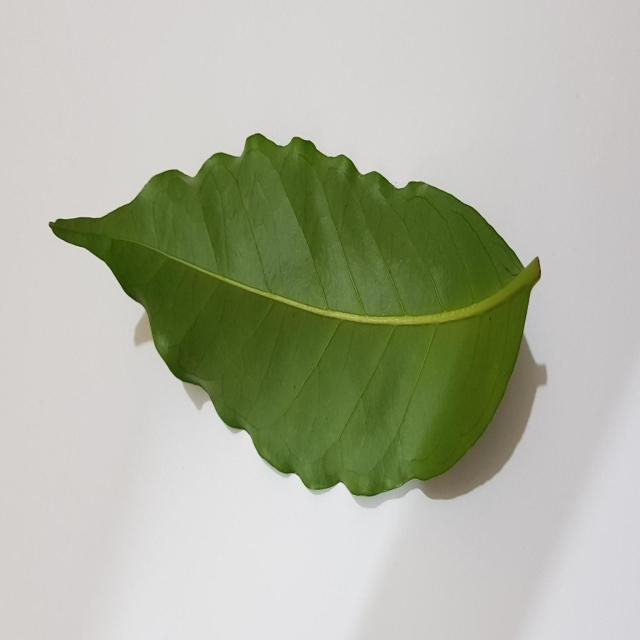nodisease: (49, 134, 541, 496)
